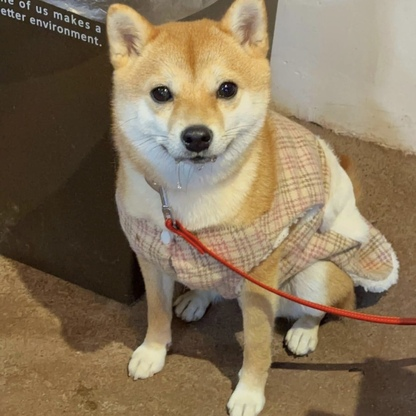shiba: (95, 1, 393, 416)
